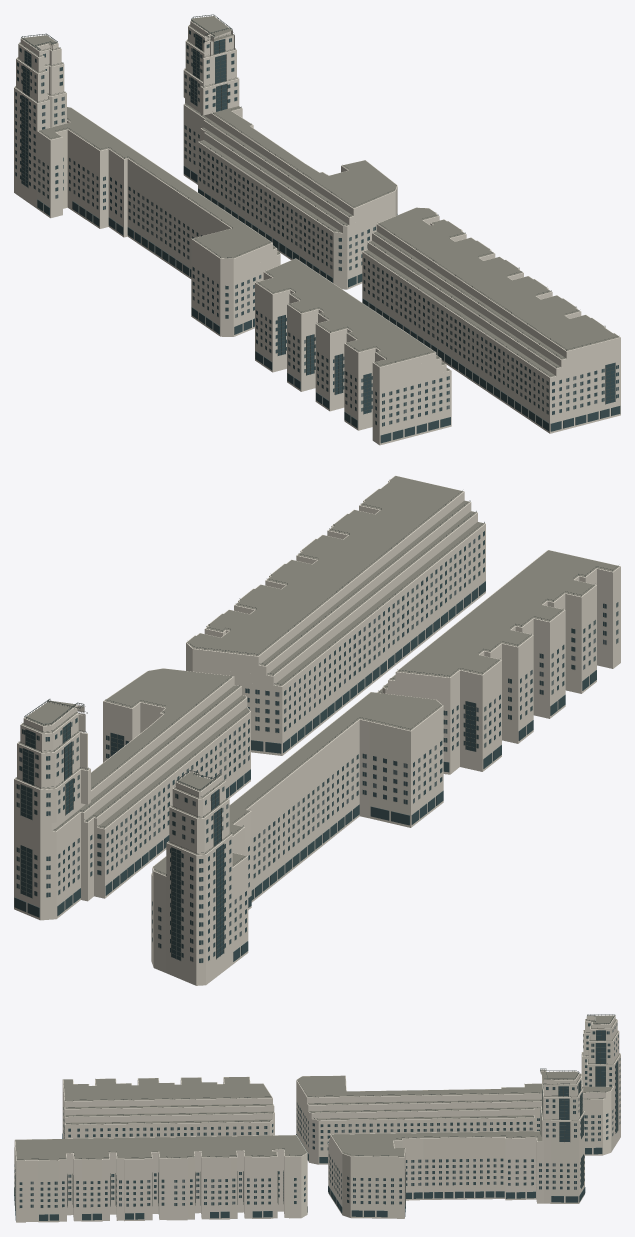
Rendered from gratte-ciel-villeurbanne-near.glb.
3 renders of one model, top to bottom at view 1: azimuth 30°, elevation 25°; view 2: azimuth 150°, elevation 25°; view 3: azimuth 270°, elevation 25°, orthographic. The views are drawn at different scales.
Parts seen in each view (by area): view 1: gratte-ciel-villeurbanne-0-stucco, gratte-ciel-villeurbanne-0-roof, gratte-ciel-villeurbanne-0-glass, gratte-ciel-villeurbanne-0-metal, gratte-ciel-villeurbanne-0-trim, gratte-ciel-villeurbanne-0-light, gratte-ciel-villeurbanne-0-frame; view 2: gratte-ciel-villeurbanne-0-stucco, gratte-ciel-villeurbanne-0-roof, gratte-ciel-villeurbanne-0-glass, gratte-ciel-villeurbanne-0-metal, gratte-ciel-villeurbanne-0-trim, gratte-ciel-villeurbanne-0-light, gratte-ciel-villeurbanne-0-frame; view 3: gratte-ciel-villeurbanne-0-stucco, gratte-ciel-villeurbanne-0-roof, gratte-ciel-villeurbanne-0-glass, gratte-ciel-villeurbanne-0-metal, gratte-ciel-villeurbanne-0-trim, gratte-ciel-villeurbanne-0-light, gratte-ciel-villeurbanne-0-frame.
Boxes of the visible parts, <box> form: gratte-ciel-villeurbanne-0-stucco: <box>14,16,620,445</box>; gratte-ciel-villeurbanne-0-roof: <box>15,16,619,377</box>; gratte-ciel-villeurbanne-0-glass: <box>15,30,620,443</box>; gratte-ciel-villeurbanne-0-metal: <box>17,14,617,414</box>; gratte-ciel-villeurbanne-0-trim: <box>15,34,618,426</box>; gratte-ciel-villeurbanne-0-light: <box>15,48,618,422</box>; gratte-ciel-villeurbanne-0-frame: <box>39,39,617,425</box>; gratte-ciel-villeurbanne-0-stucco: <box>14,475,620,985</box>; gratte-ciel-villeurbanne-0-roof: <box>15,476,619,875</box>; gratte-ciel-villeurbanne-0-glass: <box>14,531,618,962</box>; gratte-ciel-villeurbanne-0-metal: <box>16,490,618,960</box>; gratte-ciel-villeurbanne-0-trim: <box>16,535,618,963</box>; gratte-ciel-villeurbanne-0-light: <box>16,539,606,961</box>; gratte-ciel-villeurbanne-0-frame: <box>18,543,617,962</box>; gratte-ciel-villeurbanne-0-stucco: <box>14,1015,620,1222</box>; gratte-ciel-villeurbanne-0-roof: <box>15,1015,619,1160</box>; gratte-ciel-villeurbanne-0-glass: <box>14,1023,620,1220</box>; gratte-ciel-villeurbanne-0-metal: <box>15,1014,618,1207</box>; gratte-ciel-villeurbanne-0-trim: <box>14,1026,620,1208</box>; gratte-ciel-villeurbanne-0-light: <box>14,1023,620,1206</box>; gratte-ciel-villeurbanne-0-frame: <box>32,1031,608,1207</box>.
Bounding box in the file's own units: 99.67 × 65.03 × 291.
